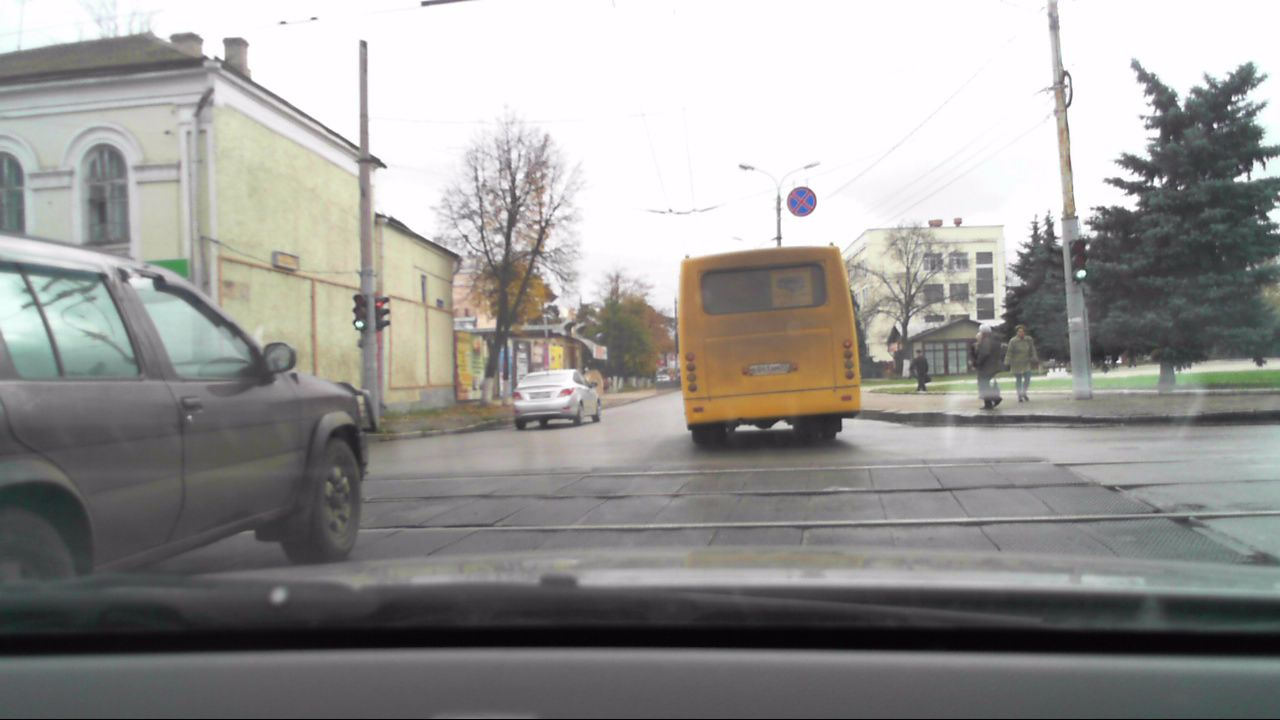No Parking: (785, 184, 822, 219)
